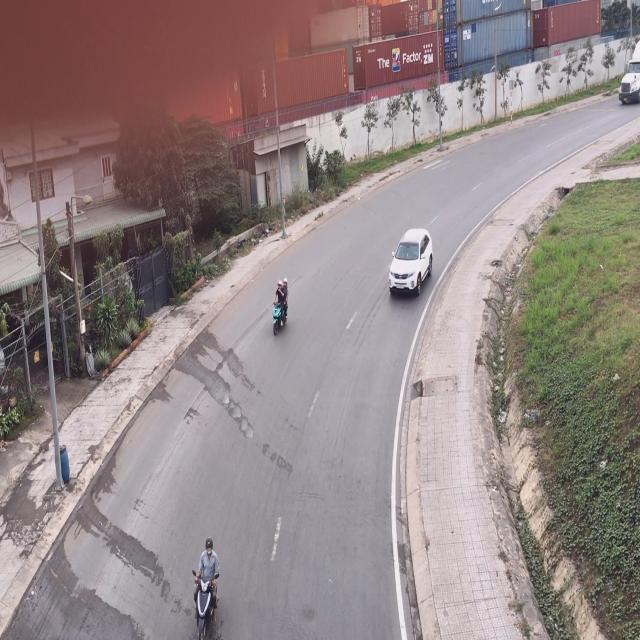car: (388, 230, 434, 300)
motorbike: (192, 535, 220, 638), (270, 280, 289, 341)
truck: (622, 52, 640, 109)
